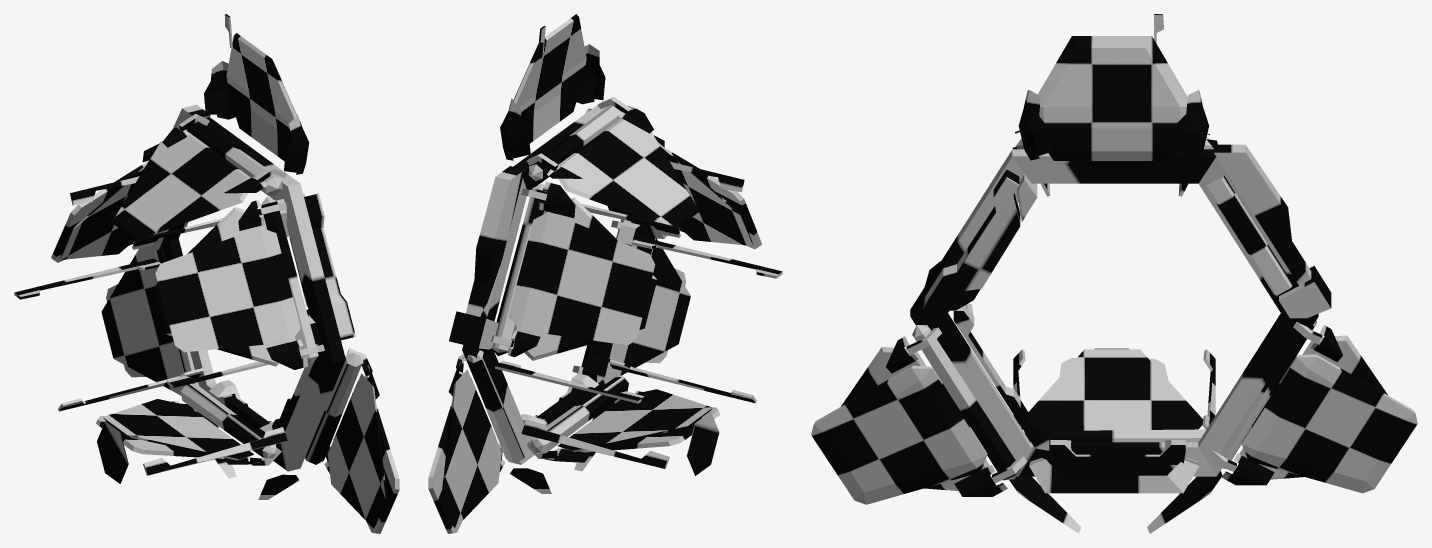
Rendered from eventgate_domination.obj.
3 renders of one model, left to right at view 1: azimuth 30°, elevation 25°; view 2: azimuth 150°, elevation 25°; view 3: azimuth 270°, elevation 25°, orthographic. The views are drawn at different scales.
Visible parts, largest first — view 1: eventgate_domination; view 2: eventgate_domination; view 3: eventgate_domination.
Part boxes in pixels (x1,y1,x2,y2): eventgate_domination: [14, 14, 399, 533]; eventgate_domination: [428, 14, 782, 533]; eventgate_domination: [811, 14, 1417, 533].
Bounding box in the file's own units: 174 × 405 × 430.
1 material, 1 textured.
